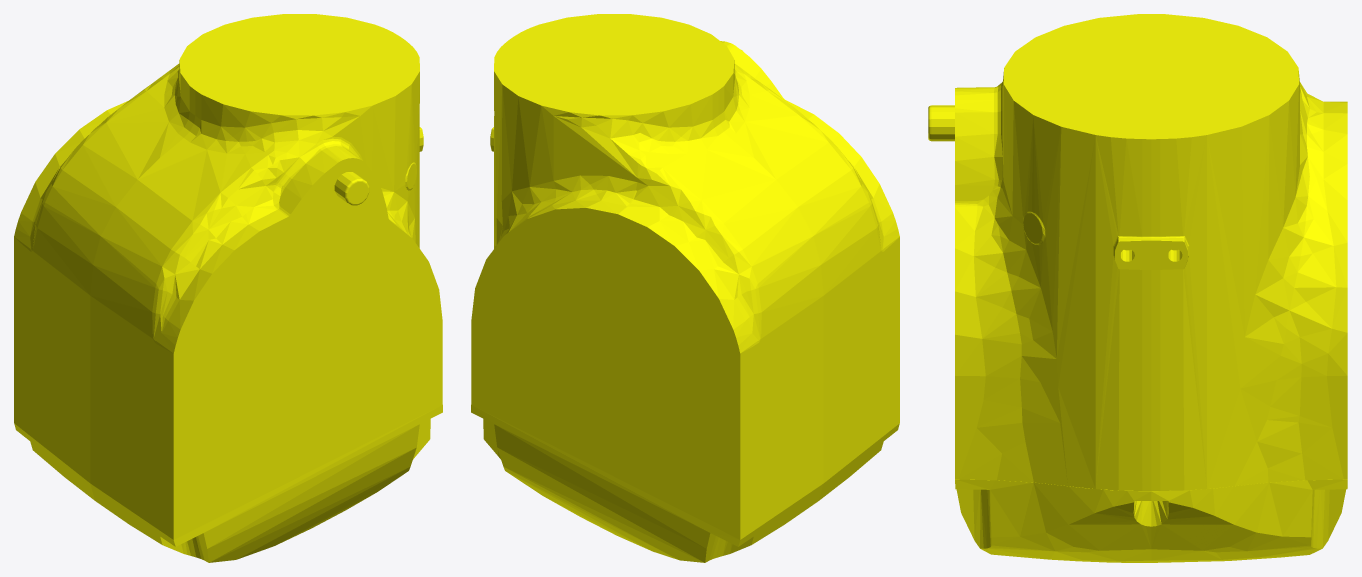
3 renders of one model, left to right at view 1: azimuth 30°, elevation 25°; view 2: azimuth 150°, elevation 25°; view 3: azimuth 270°, elevation 25°, orthographic. The views are drawn at different scales.
Parts seen in each view (by area): view 1: node; view 2: node; view 3: node.
Part boxes in pixels (x1,y1,x2,y2): node: (14, 14, 442, 562); node: (471, 14, 899, 562); node: (928, 14, 1347, 562).
Bounding box in the file's own units: 152 × 191 × 141.
